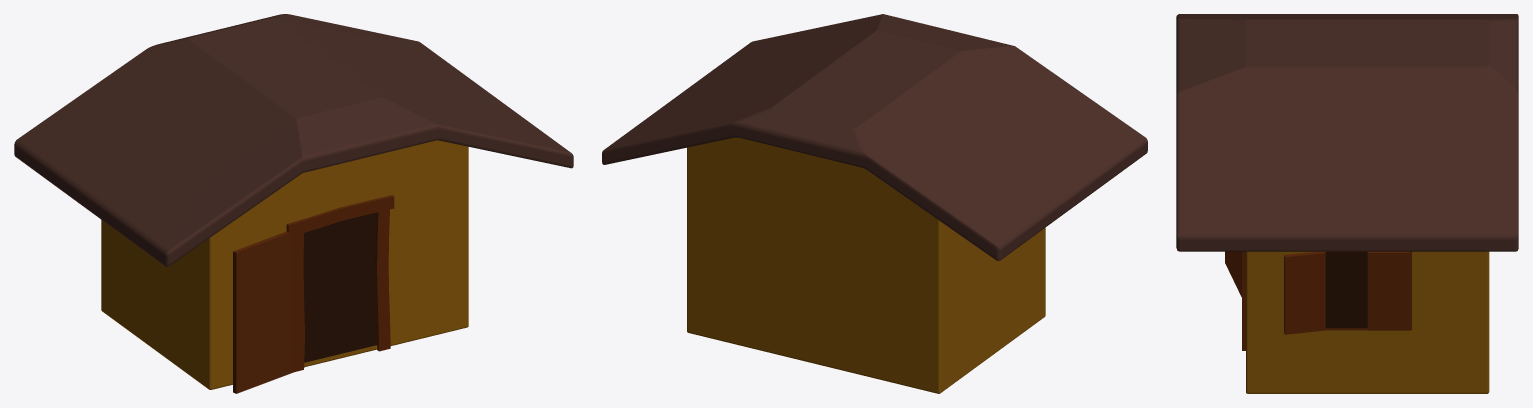
Rendered from House2.fbx.
3 views of the same model, side by side, from view 1: azimuth 30°, elevation 25°; view 2: azimuth 150°, elevation 25°; view 3: azimuth 270°, elevation 25° (orthographic). The views are drawn at different scales.
Parts seen in each view (by area): view 1: Cube.010, Cube, Cube.009, Cube.007, Cube.002, Cube.001, Cube.003; view 2: Cube.010, Cube; view 3: Cube.010, Cube, Cube.006, Cube.005, Cube.008, Cube.007, Cube.004, Cube.002.
Part boxes in pixels (<box>): Cube.010: <box>14,14,573,266</box>; Cube: <box>101,140,468,389</box>; Cube.009: <box>303,212,377,362</box>; Cube.007: <box>233,231,293,393</box>; Cube.002: <box>375,208,390,351</box>; Cube.001: <box>292,229,304,372</box>; Cube.003: <box>286,195,394,235</box>; Cube.010: <box>602,14,1147,260</box>; Cube: <box>687,137,1045,393</box>; Cube.010: <box>1176,14,1518,251</box>; Cube: <box>1246,251,1489,393</box>; Cube.006: <box>1367,251,1409,330</box>; Cube.005: <box>1284,251,1325,334</box>; Cube.008: <box>1325,252,1367,327</box>; Cube.007: <box>1225,251,1241,297</box>; Cube.004: <box>1325,251,1411,330</box>; Cube.002: <box>1242,251,1245,350</box>.
Bounding box in the file's own units: 432 × 281 × 255.
